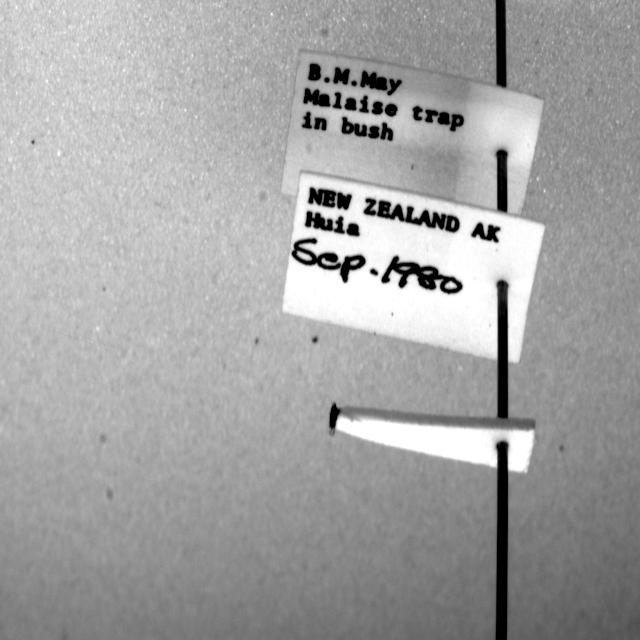mixed_label: (282, 172, 545, 362)
typed_label: (281, 51, 544, 214)
